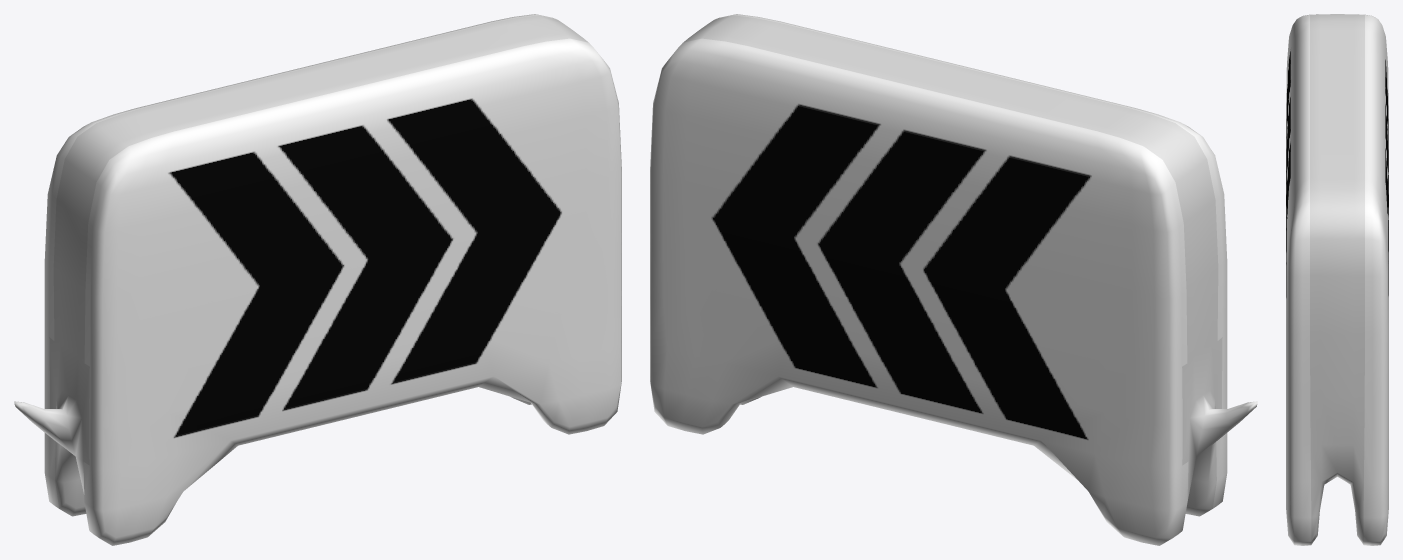
Rendered from direction.fbx.
3 views of the same model, side by side, from view 1: azimuth 30°, elevation 25°; view 2: azimuth 150°, elevation 25°; view 3: azimuth 270°, elevation 25° (orthographic). The views are drawn at different scales.
Parts seen in each view (by area): view 1: pCube8; view 2: pCube8; view 3: pCube8.
Boxes of the visible parts, left/top/right/bottom form: pCube8: left=14, top=14, right=621, bottom=545; pCube8: left=650, top=14, right=1257, bottom=545; pCube8: left=1286, top=14, right=1388, bottom=545.
Bounding box in the file's own units: 1.41 × 0.9051 × 0.2487.
